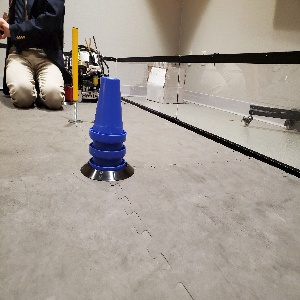Blue_3: (87, 74, 129, 169)
